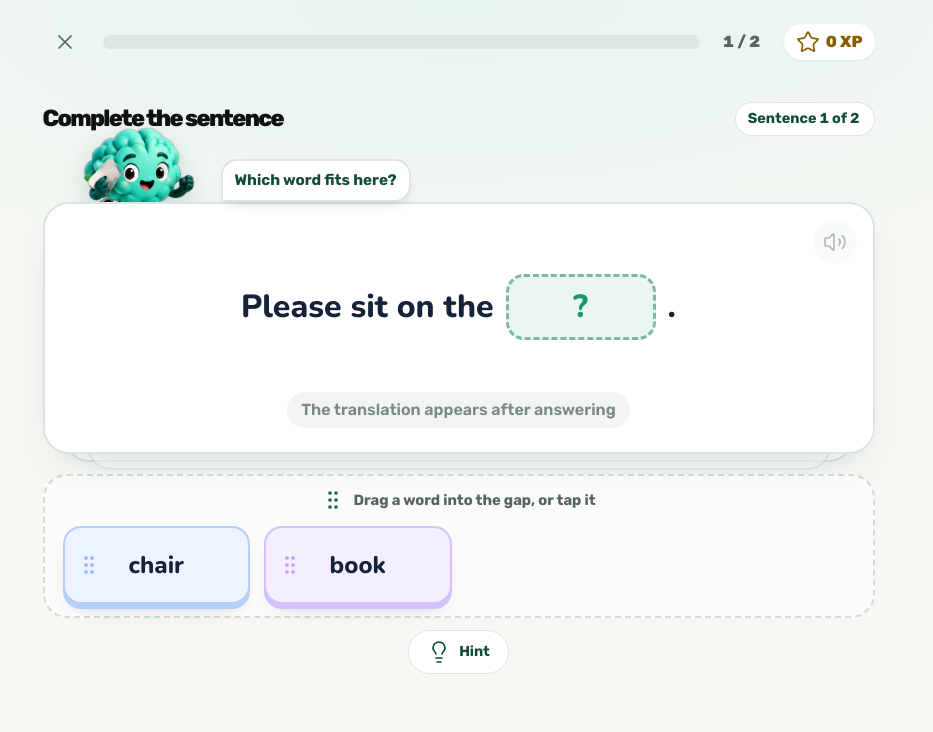
Scenario: DEV focus game engine › recovers a lost wrong-answer receipt without locking cloze or losing its rejected tile
The width and height of the screenshot is (933, 732).
Click the button "book" at (358, 565), box [264,526,452,604]
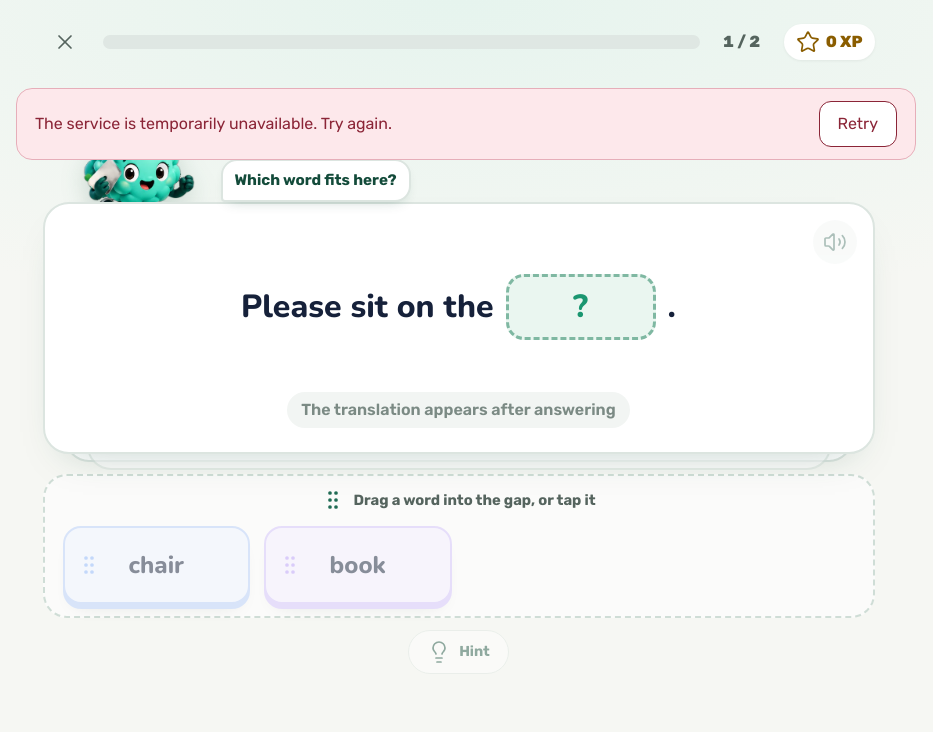
Result: the message "The service is temporarily unavailable. Try again. Retry" is shown at [16,88,916,160]
Result: the button "Retry" is enabled
Click the button "Retry" at (858, 124), box [818,101,897,147]
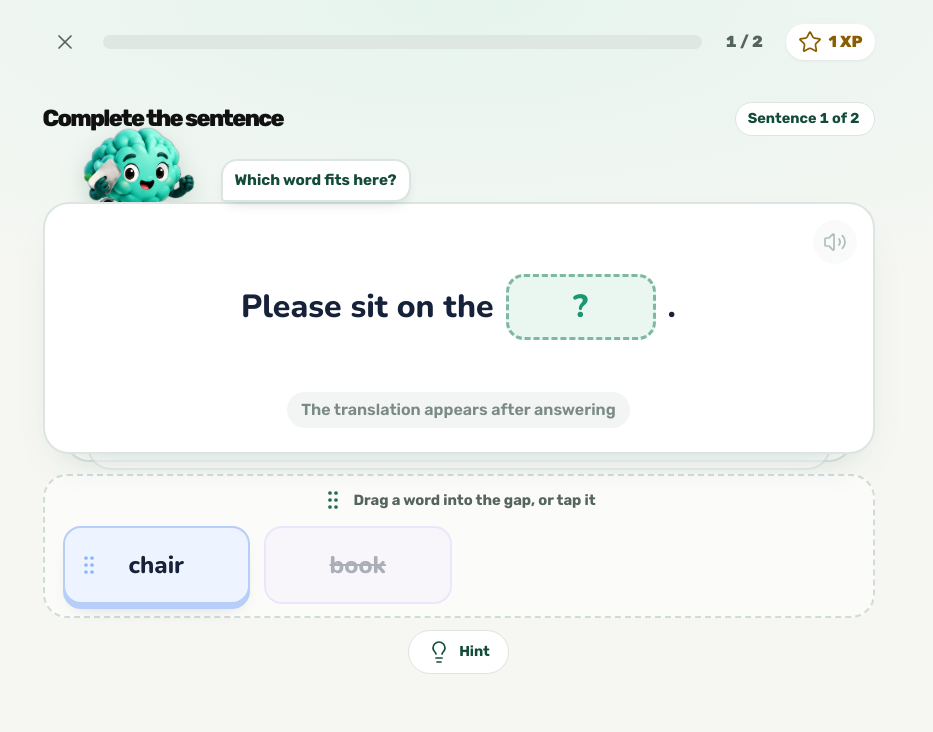
Result: the button "book" is disabled at [264,526,452,604]
Result: the button "chair" is enabled
Click the button "chair" at (156, 565), box [62,526,250,604]
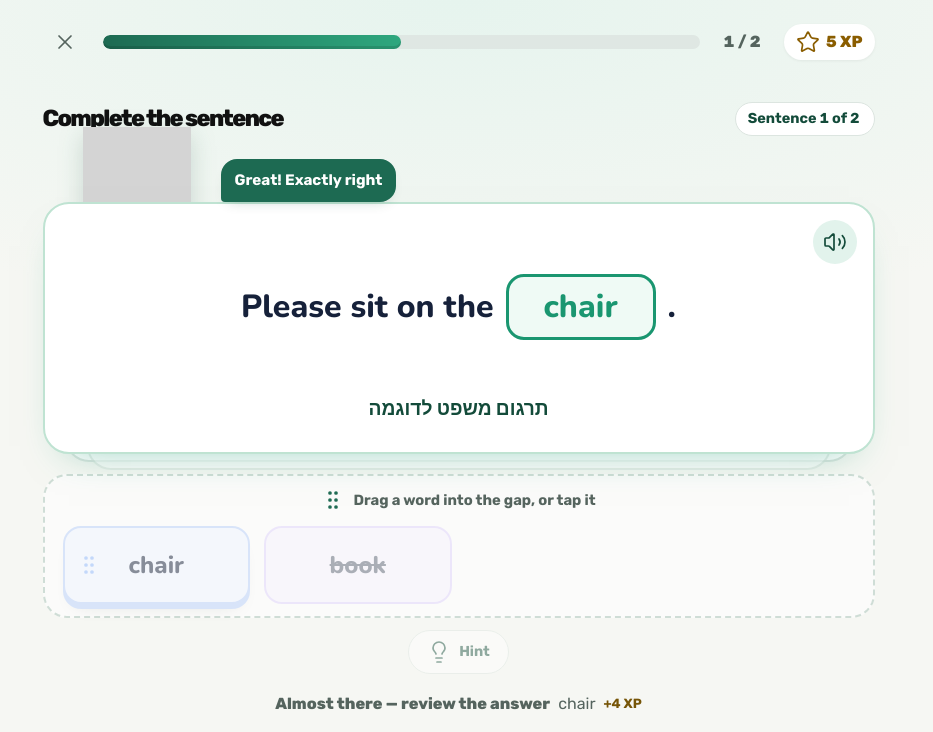
Result: the text "Almost there — review the answer" is shown at [275,692,550,716]
